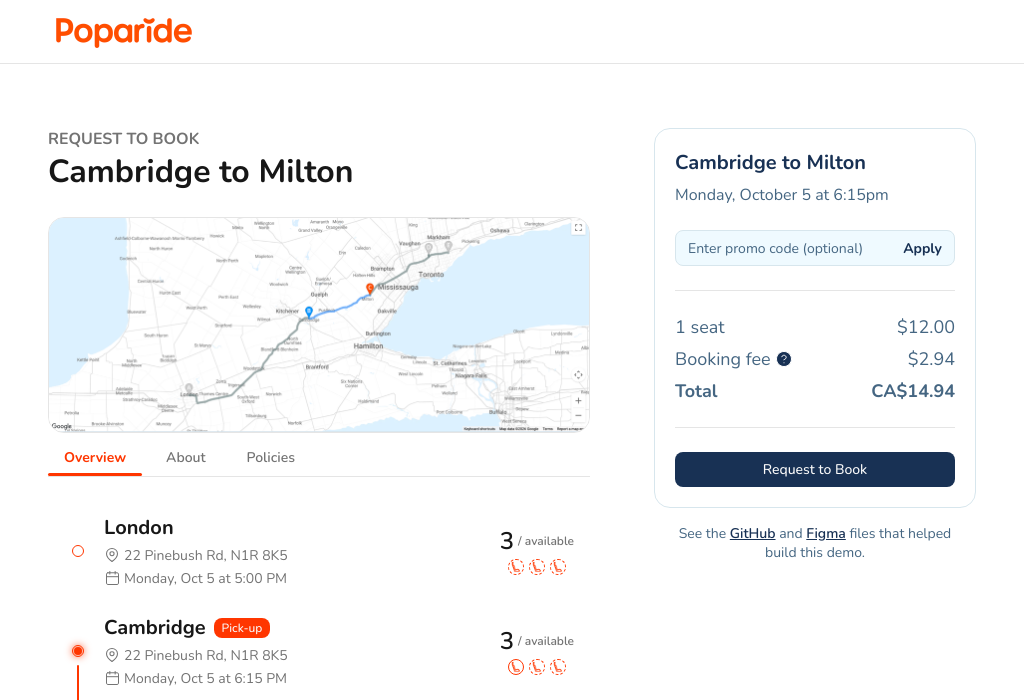
Test case: requesting a booking › lets the passenger send a new request after changing their stops
This screenshot has width=1024, height=700.
Click the button "Request to Book": {"x": 815, "y": 470} [675, 452, 955, 487]
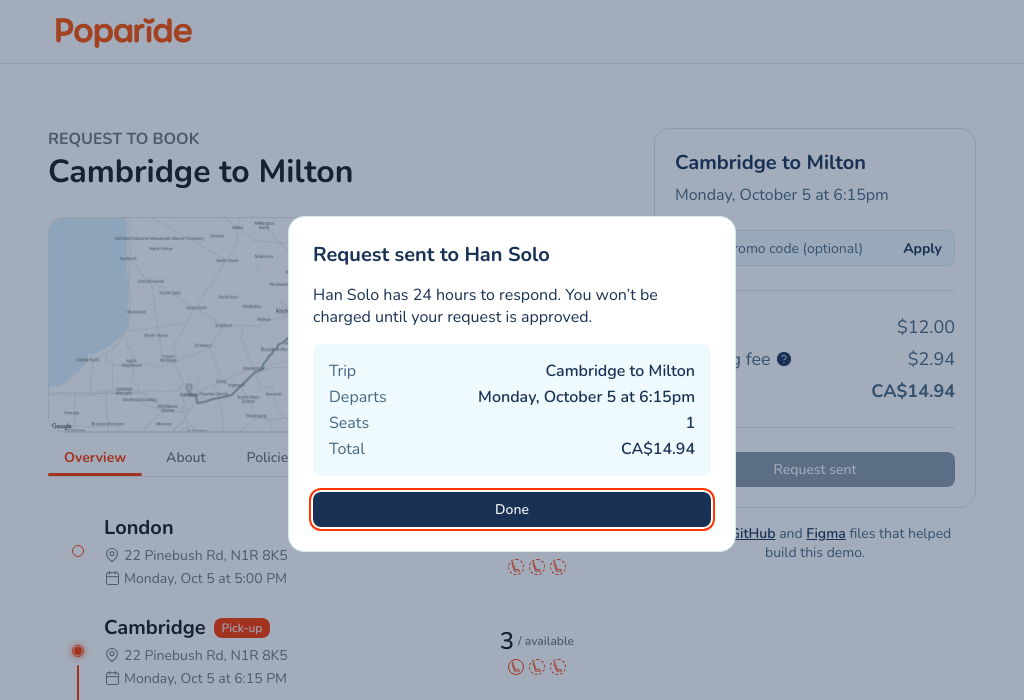
Click the button "Done": {"x": 512, "y": 510} [313, 492, 711, 527]
(page scrolled)
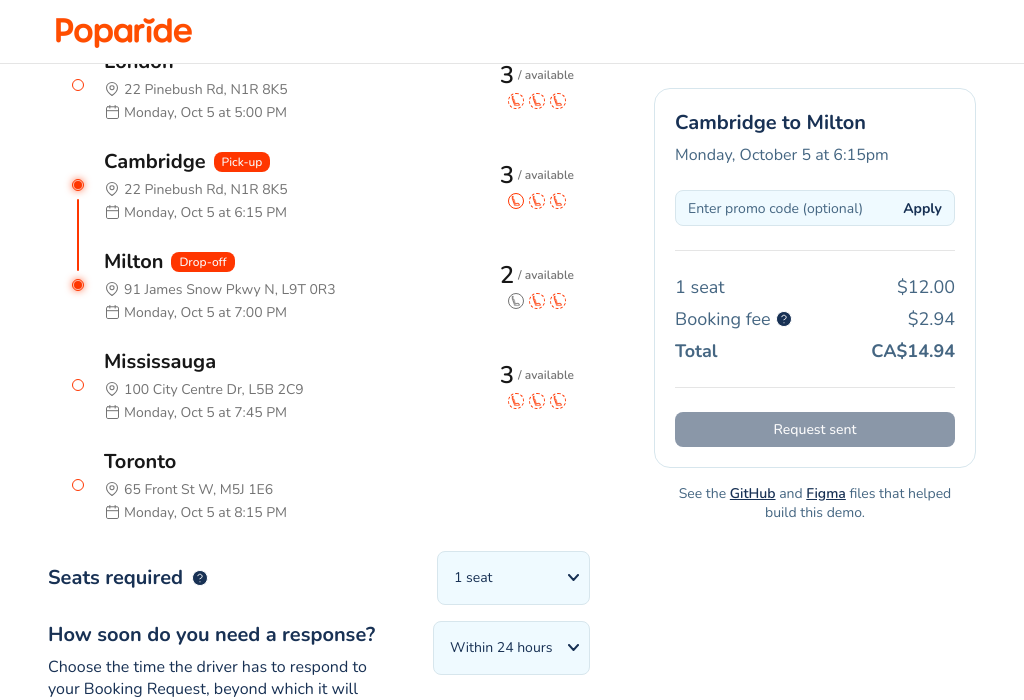
Click the button "Mississauga": {"x": 160, "y": 361} [48, 335, 590, 435]
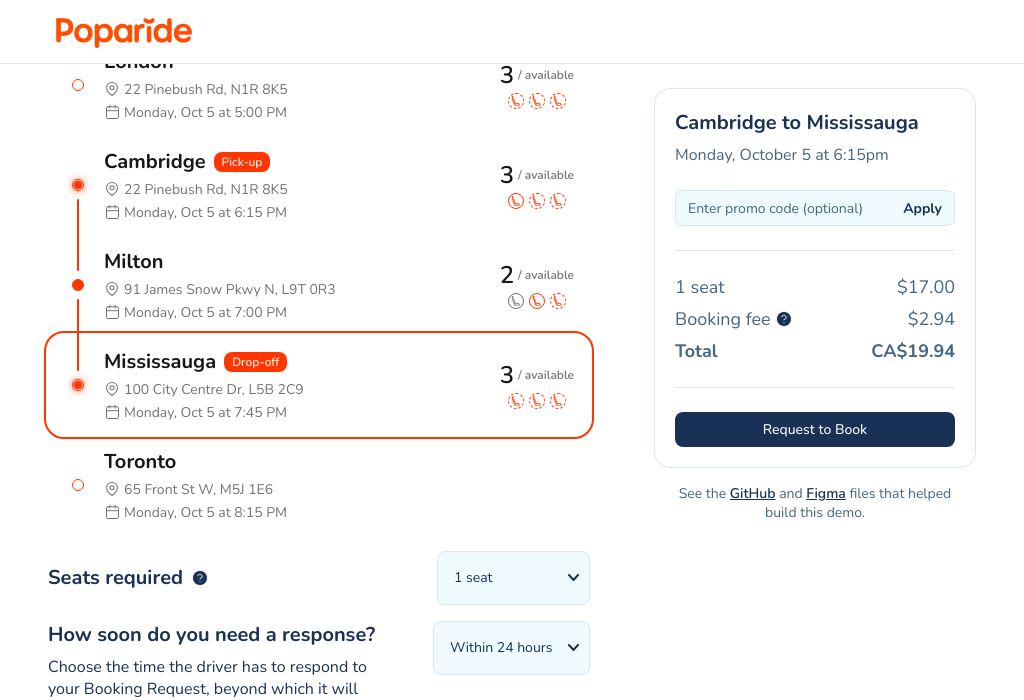
Expected: the button "Request to Book" is enabled, [675, 412, 955, 447]
